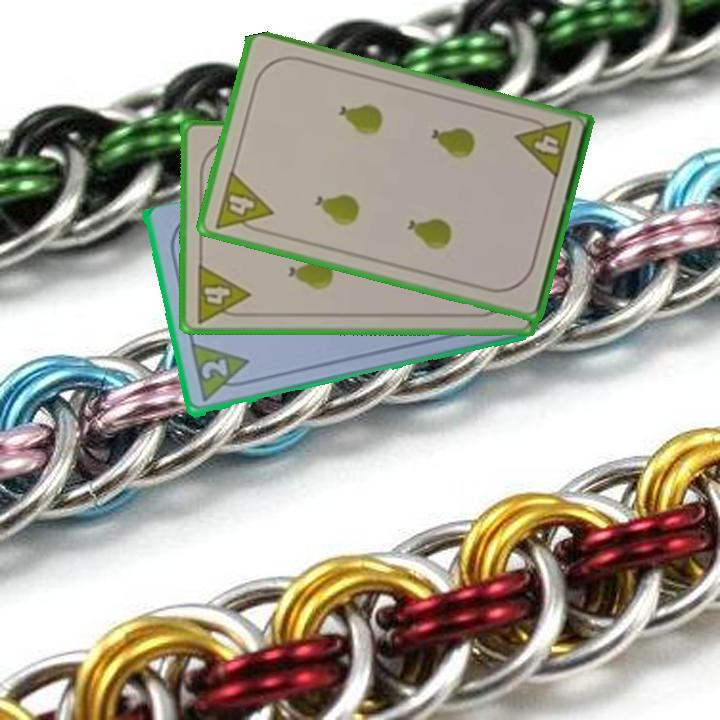2p: (197, 355, 230, 383)
4p: (211, 167, 276, 238), (512, 113, 575, 182), (192, 260, 252, 325)
